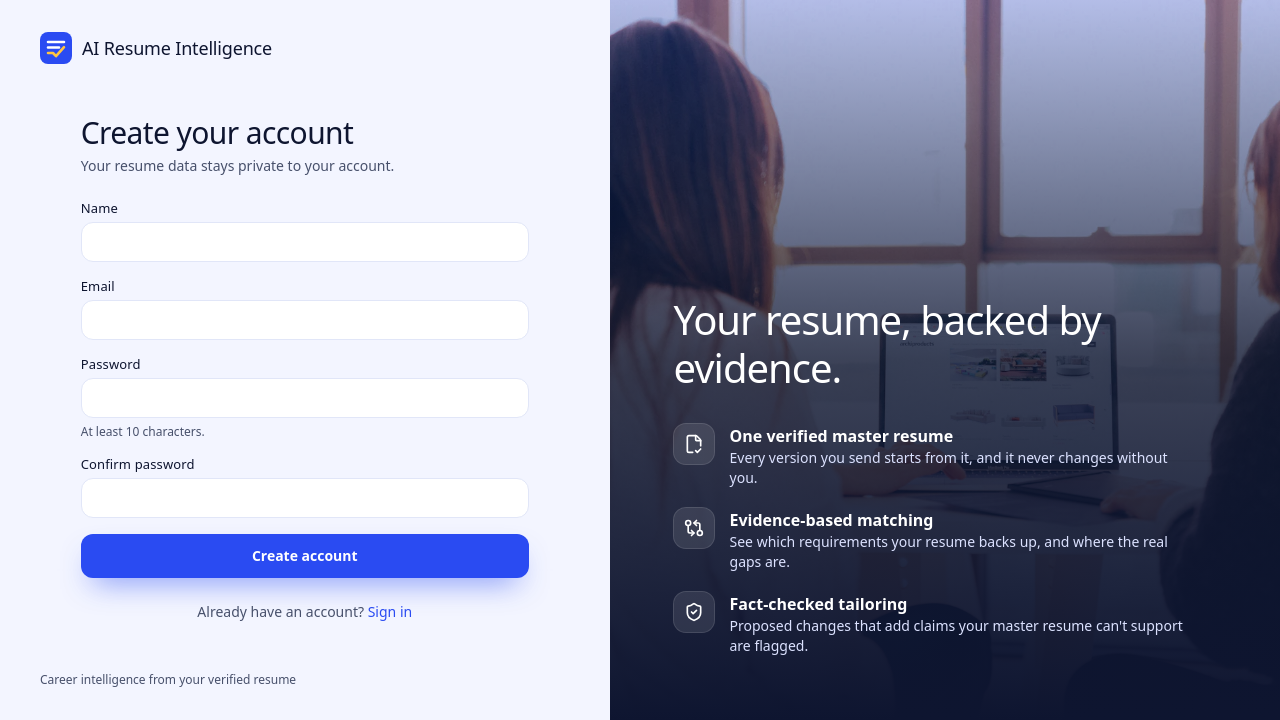
Test: register › rejects mismatched passwords and short passwords client-side
In the field labelled "Name": (305, 242) [81,222,529,262], type "Ada"
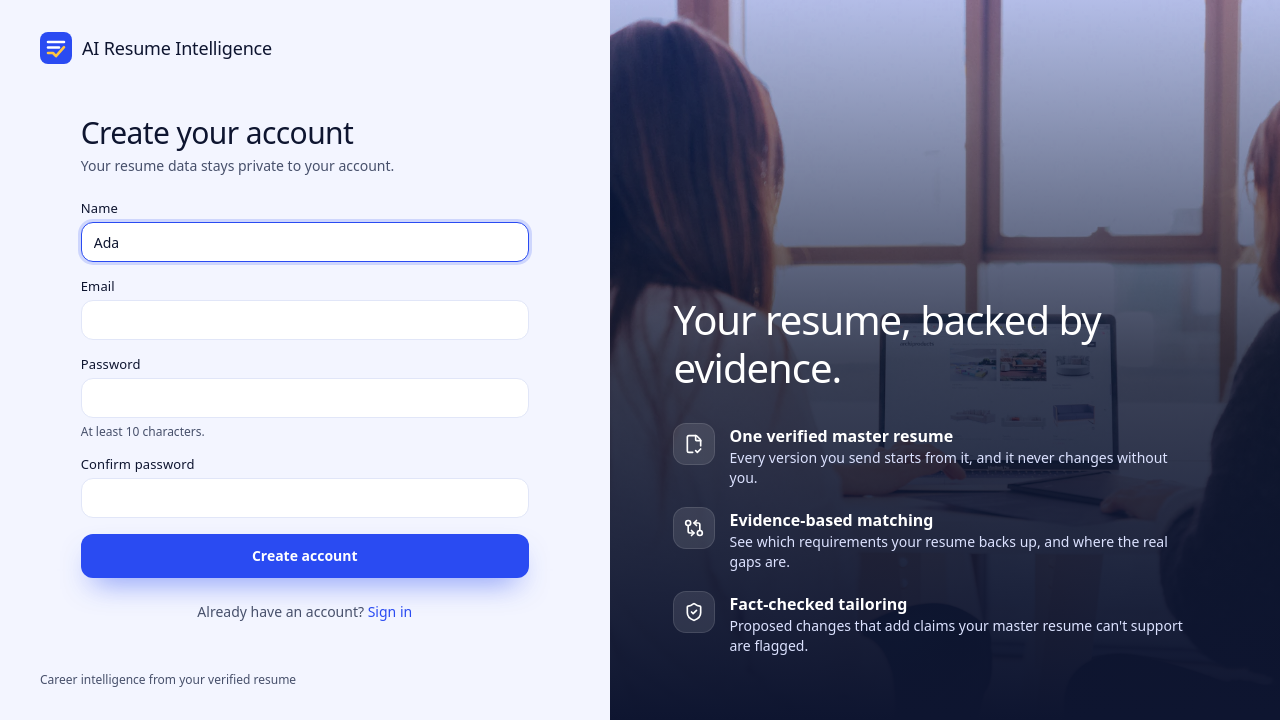
In the field labelled "Email": (305, 320) [81,300,529,340], type "ada@example.com"
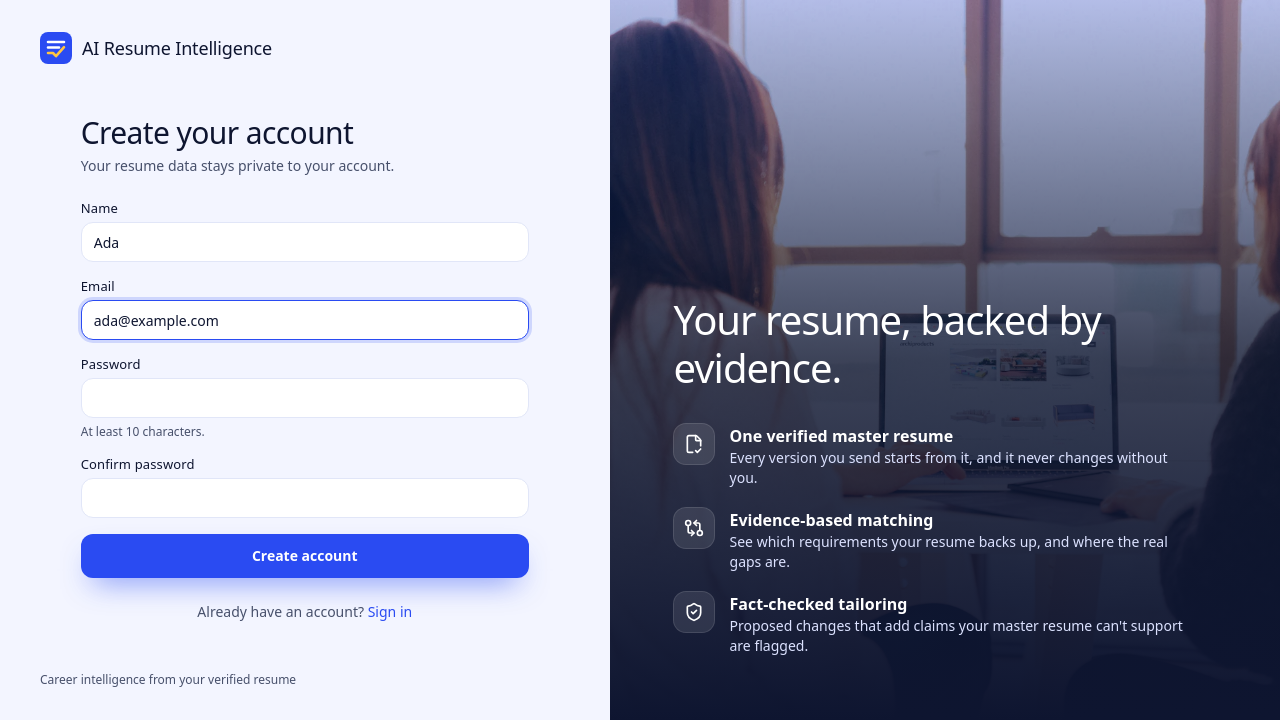
In the password field labelled "Password": (305, 398) [81,378,529,418], type "short"
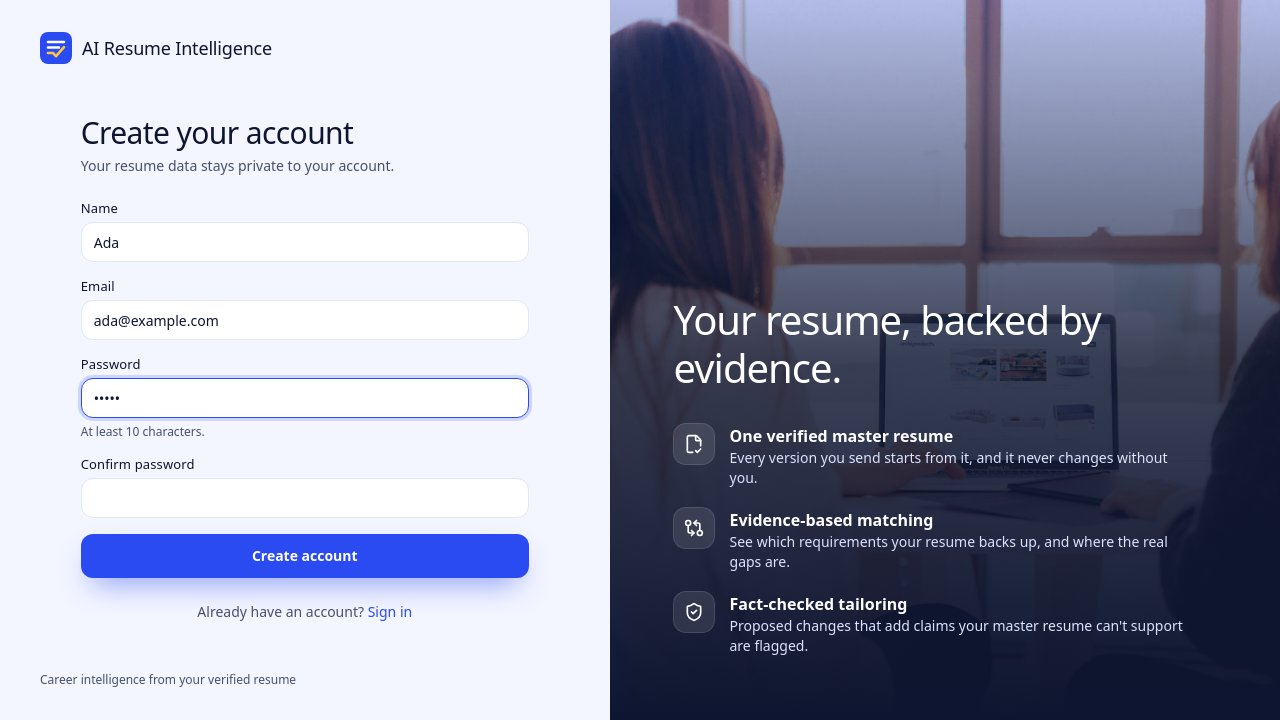
In the password field labelled "Confirm password": (305, 498) [81,478,529,518], type "different"
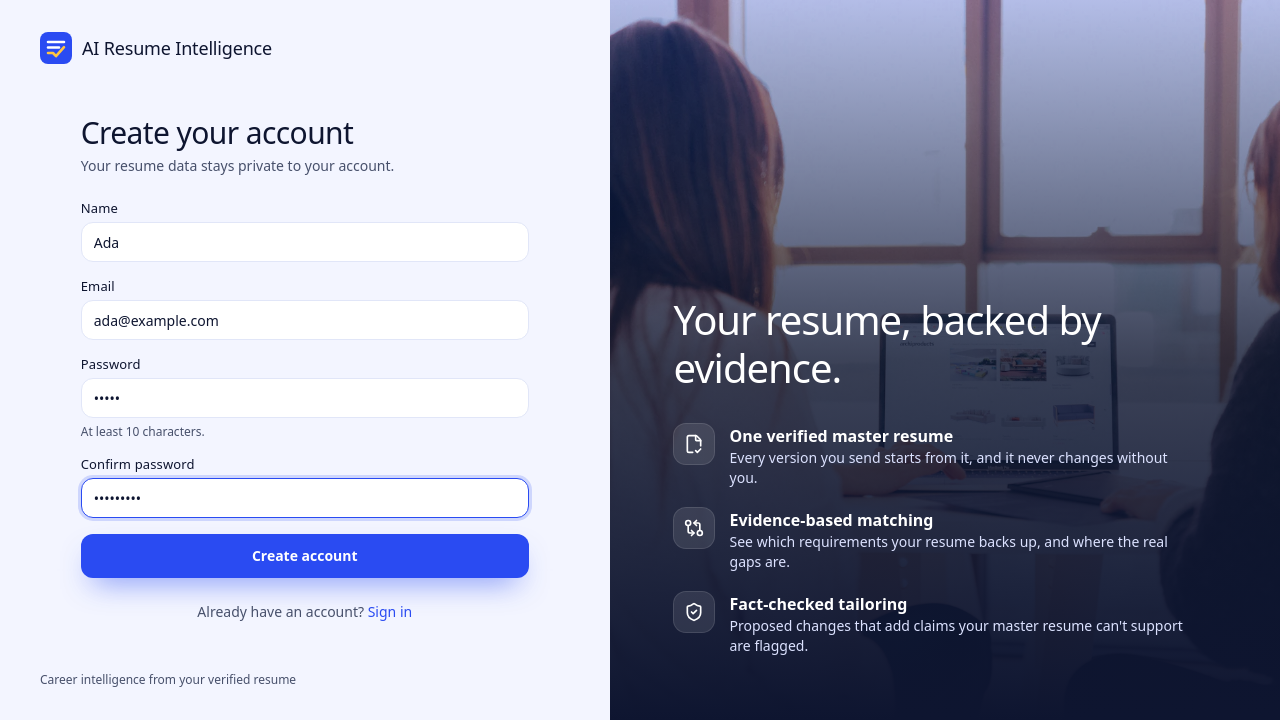
Click the button "Create account": (305, 556) [81,534,529,578]
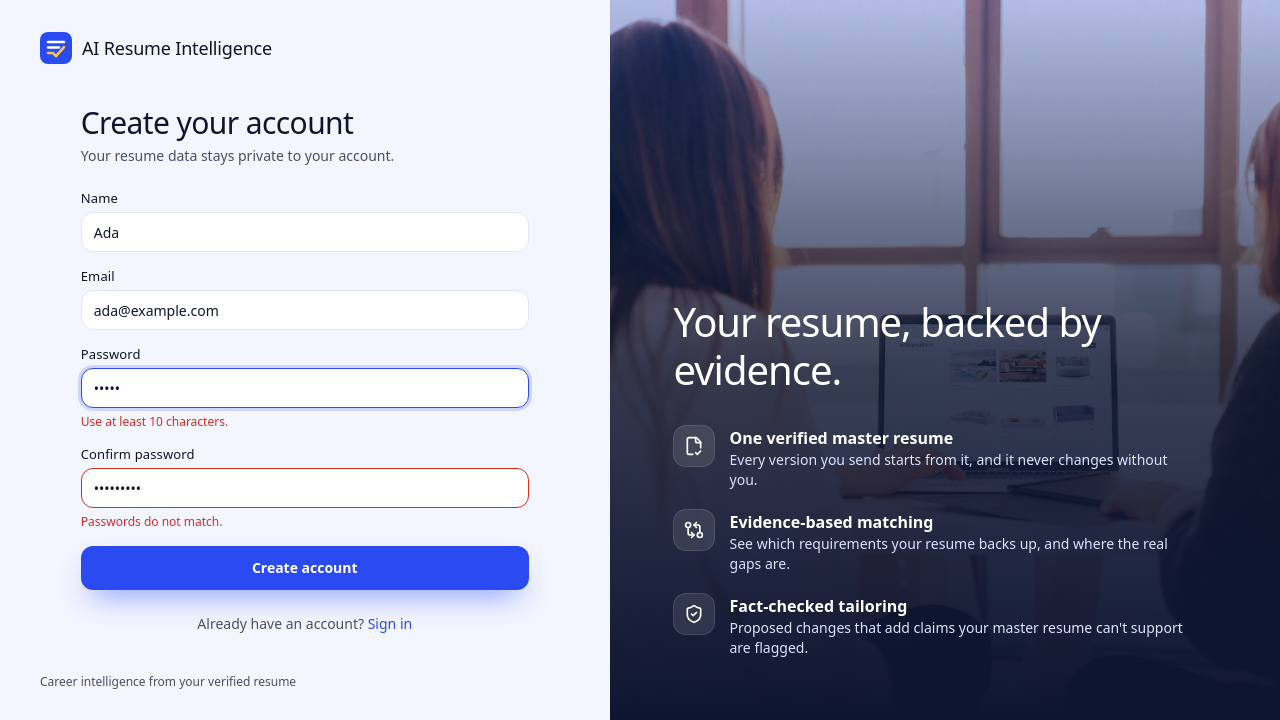
Expected: the text "Use at least 10 characters." is shown, [81,413,228,430]
Expected: the text "Passwords do not match." is shown, [81,513,222,530]
